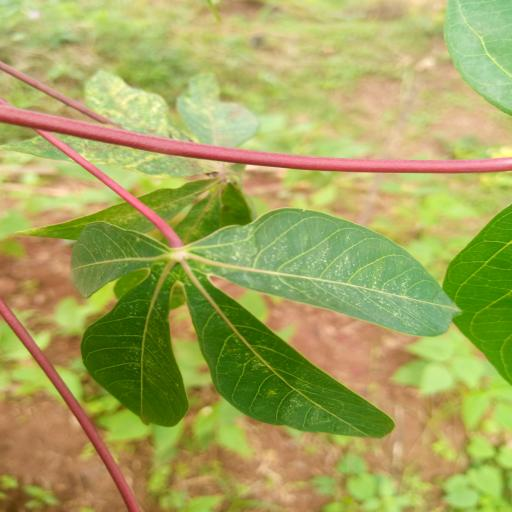Cassava_Mosaic: (67, 206, 469, 444)
